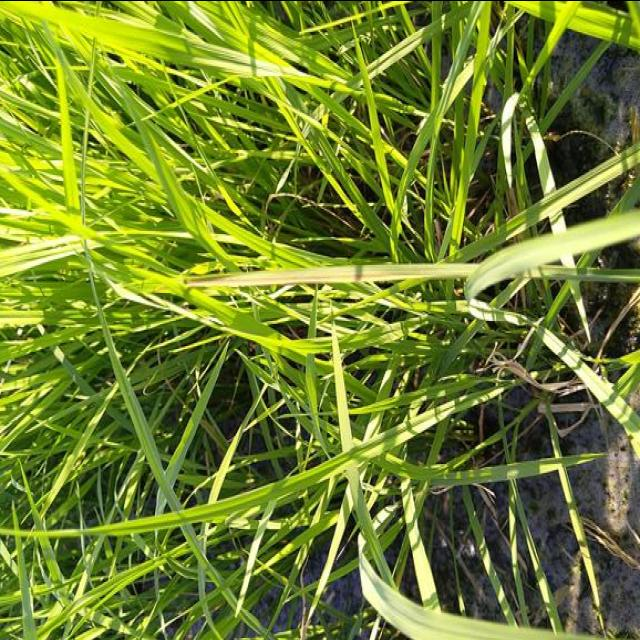Leaf Streak: (186, 262, 452, 288)
